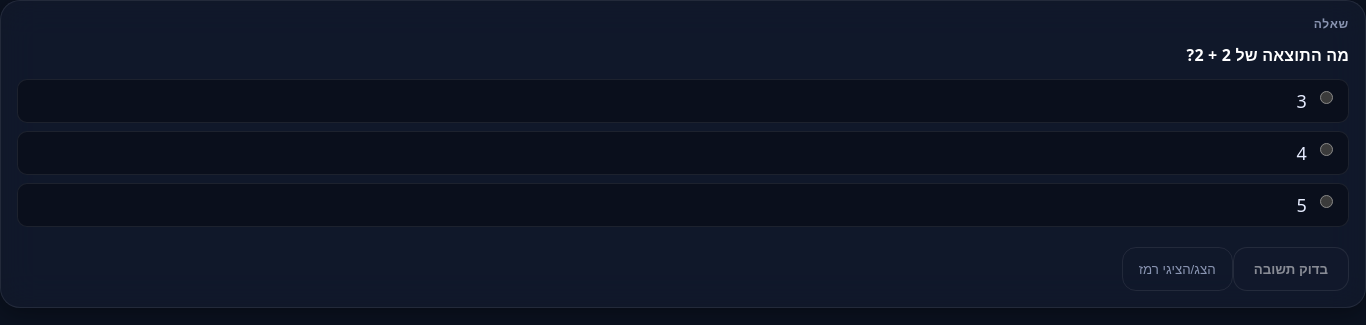
Test: QuestionAnswerPanel › disables submit until an option is selected, then calls onSubmit with the selected index
Later steps or results of the test are not shown.
Expected: the button with test id "question-submit-button" is disabled, [1233,247,1349,291]
Click the label with test id "question-option-1" at coordinates (1326, 150), box [17,131,1349,175]
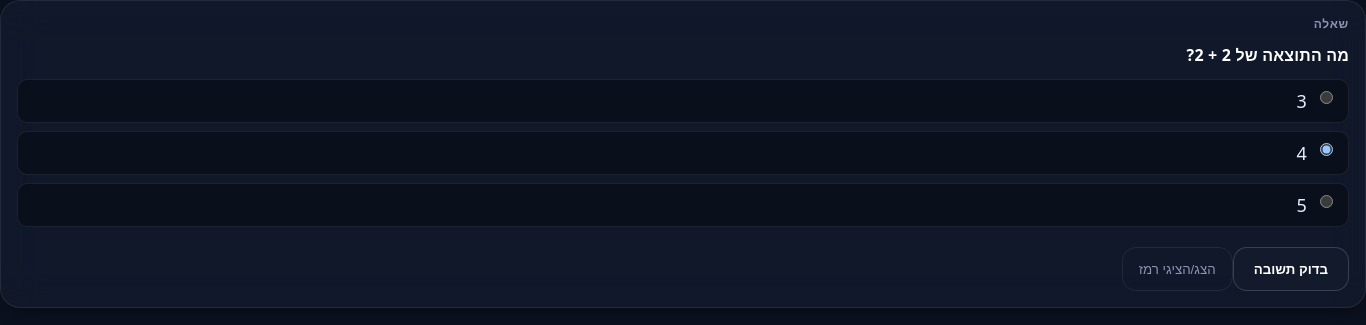
Expected: the button with test id "question-submit-button" is enabled, [1233,247,1349,291]
